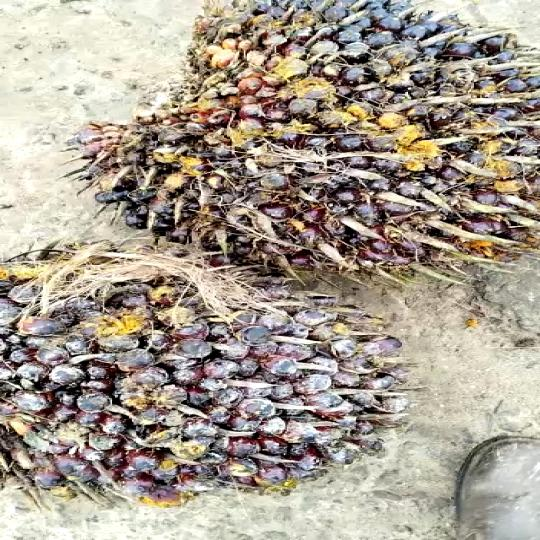kurang masak: (50, 0, 540, 261), (0, 232, 424, 504)
